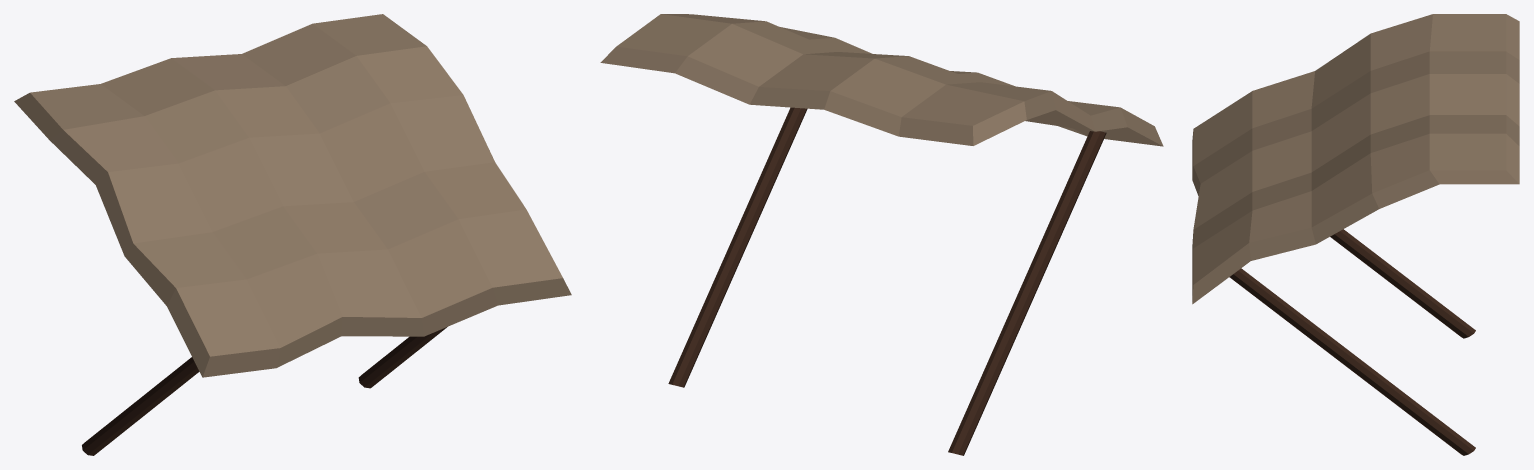
Rendered from Window Roof.fbx.
3 renders of one model, left to right at view 1: azimuth 30°, elevation 25°; view 2: azimuth 150°, elevation 25°; view 3: azimuth 270°, elevation 25°, orthographic. The views are drawn at different scales.
Parts seen in each view (by area): view 1: Window Roof; view 2: Window Roof; view 3: Window Roof.
Boxes of the visible parts, box(x1,y1,x2,y2) form: Window Roof: box(14, 14, 571, 455); Window Roof: box(600, 14, 1163, 455); Window Roof: box(1192, 14, 1519, 455).
Bounding box in the file's own units: 0.8618 × 0.764 × 0.7372.
